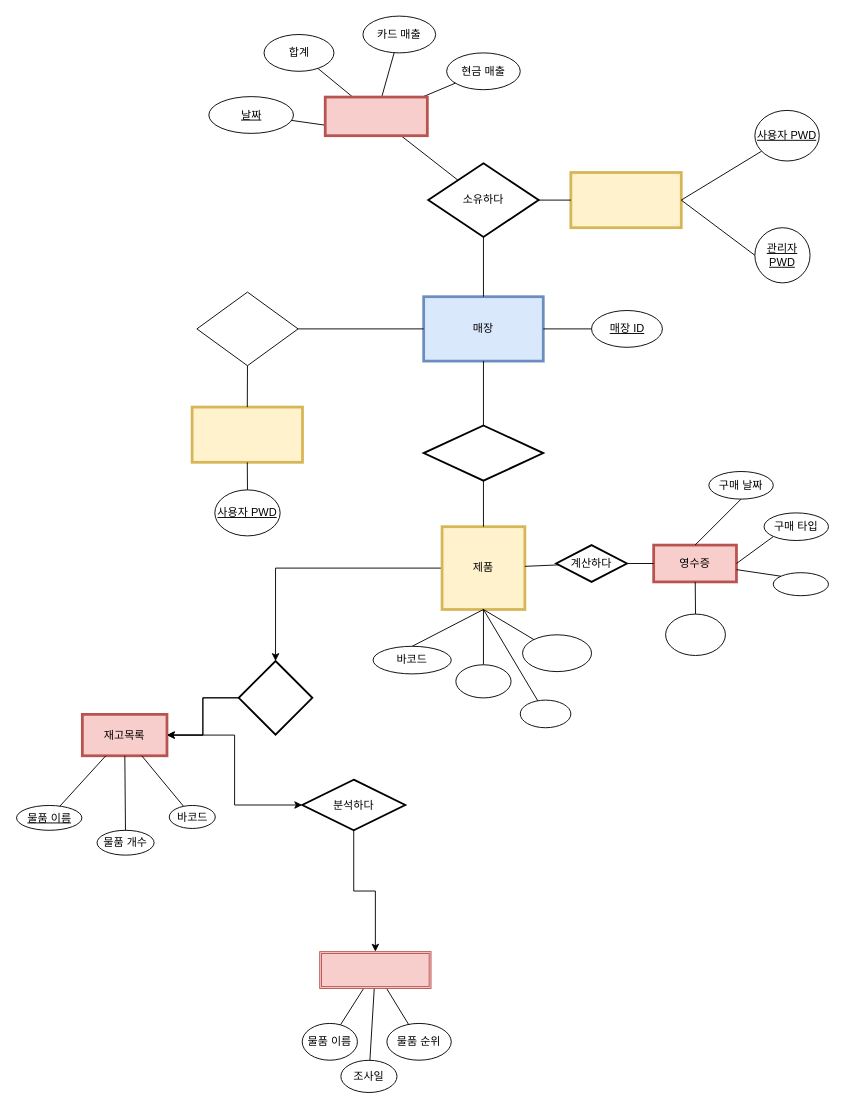
Image size: 845x1109. Some labels were removed from this diagram. The centre of each missing label's shape, as x and y in pixels:
"가격" goes at pixel 557 653.
"개수" goes at pixel 545 713.
"관리자" goes at pixel 625 200.
"근무" goes at pixel 247 328.
"매출" goes at pixel 375 116.
"사용자" goes at pixel 246 434.
"소비 Trend 분석 결과" goes at pixel 375 969.
"영수증 number" goes at pixel 695 634.
"이름" goes at pixel 483 681.
"진열하다" goes at pixel 483 452.
"출고되다" goes at pixel 275 697.
"카드번호" goes at pixel 800 584.
